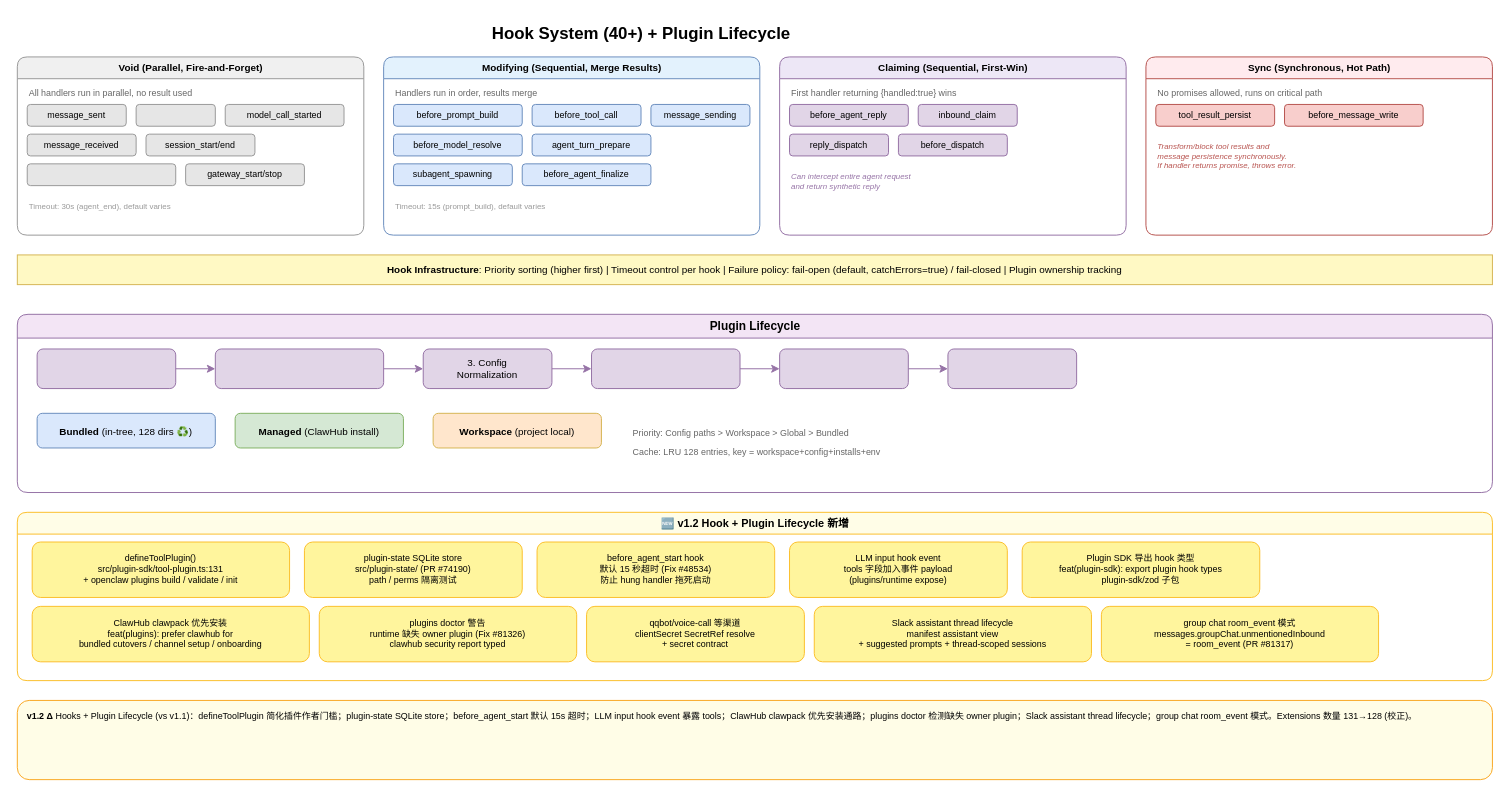
Some shapes in this 1510 by 797 pixel diagram are drawn without their labels. Each missing label, with the centre of its shape:
"1. Discovery (find candidates)" belongs at [106,368].
"2. Manifest Load (openclaw.plugin.json)" belongs at [299,368].
"4. Module Loading (jiti runtime TS)" belongs at [665,368].
"5. Registration register(api)" belongs at [843,368].
"6. Activation activate(api)" belongs at [1012,368].
"agent_end" belongs at [175,114].
"subagent_spawned/ended" belongs at [101,174].
